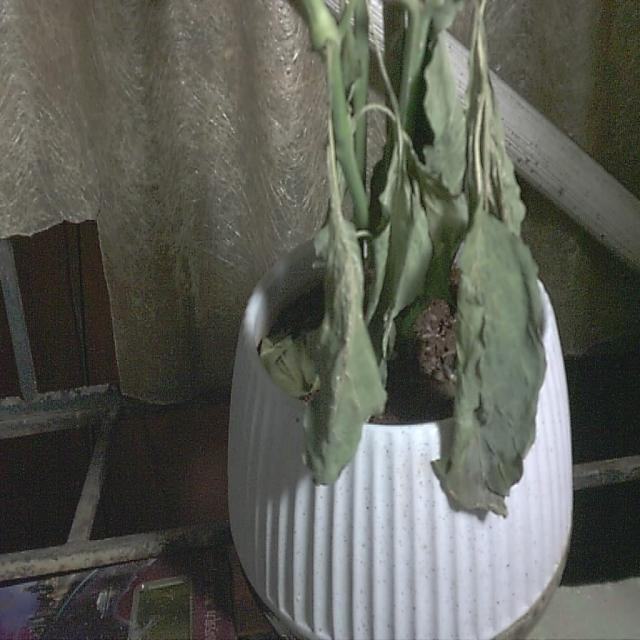Leaf: (430, 209, 549, 522), (299, 216, 389, 488)
